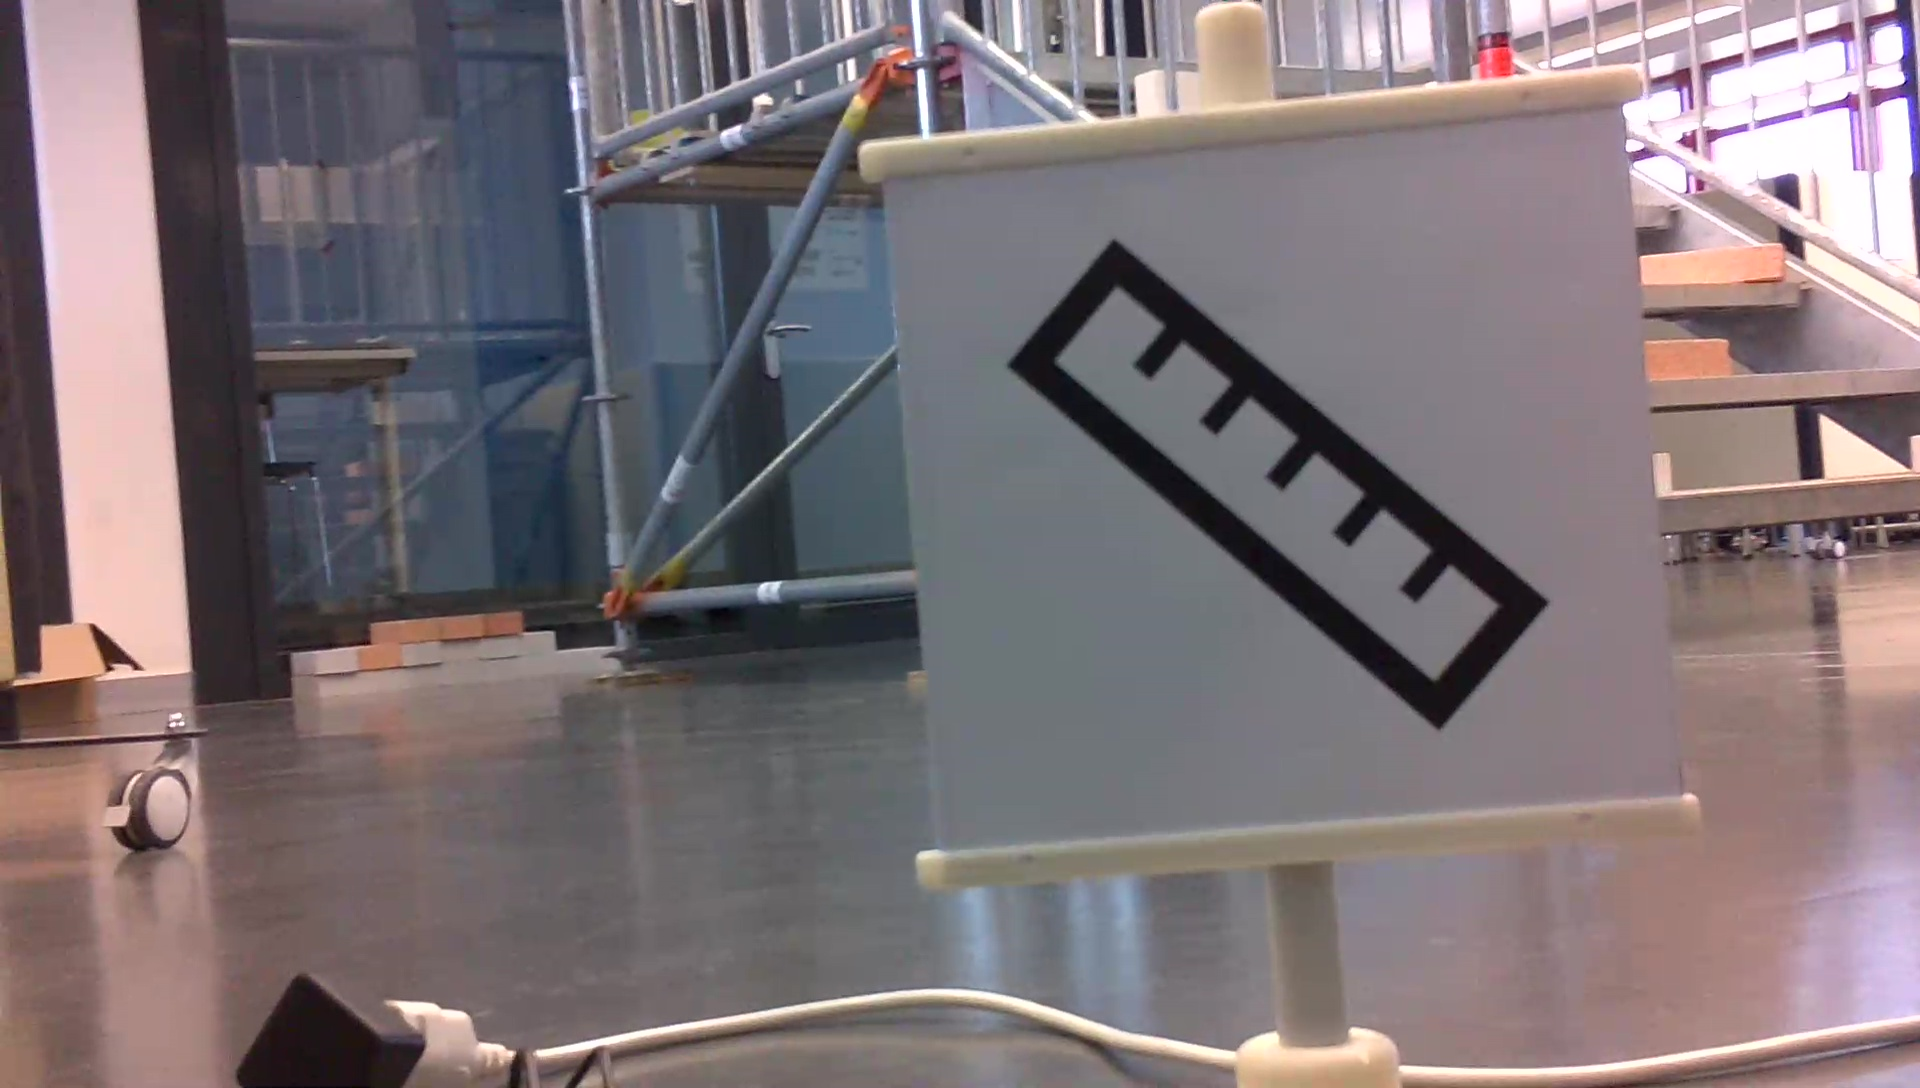brick: (1646, 236, 1793, 285), (1644, 339, 1727, 378)
ruler: (997, 236, 1549, 739)
